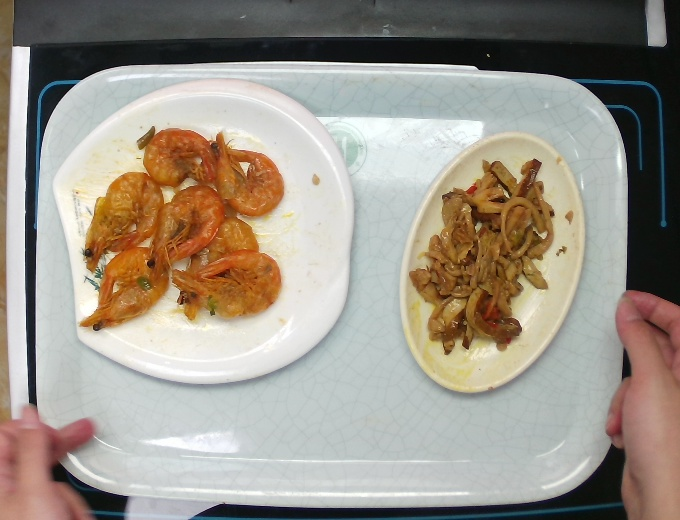JYsf-Mian_Pan: (48, 76, 355, 386)
JYsf-Tuo_Yuan_Wan: (399, 133, 585, 397)
